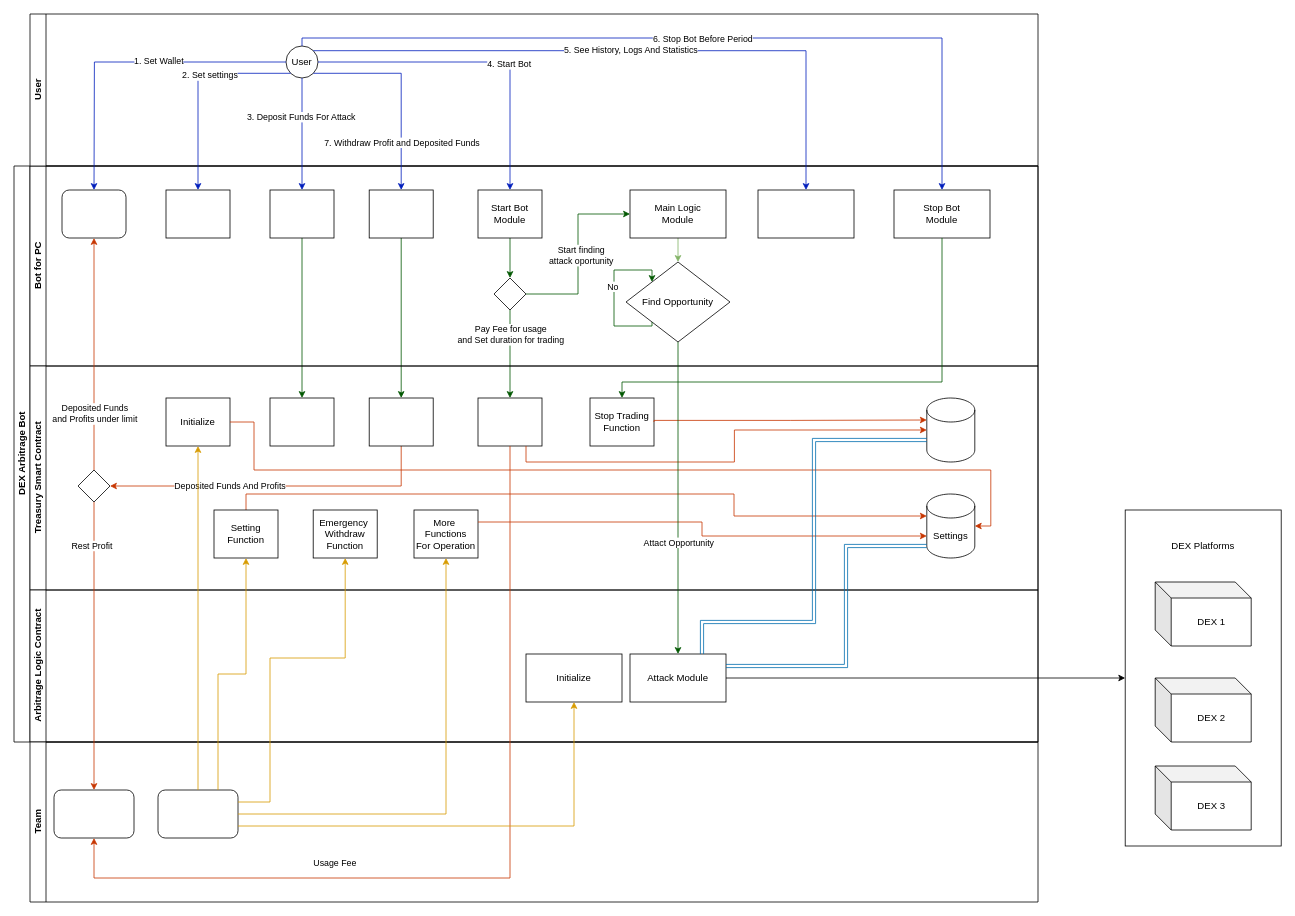
Image size: 1295x916. Some labels were removed from this diagram. Here are the shapes that lost their labels. From the top down, the centre of each, then its label:
At [93,213]: "Wallet".
At [197,213]: "Settings Module".
At [301,213]: "Deposit Module".
At [400,213]: "Withdraw Module".
At [805,213]: "Dashboard Module".
At [301,421]: "Deposit Function".
At [400,421]: "Withdraw Function".
At [509,421]: "Register Function".
At [950,429]: "User Data".
At [93,813]: "Treasury Wallet".
At [197,813]: "Manage Wallet".
